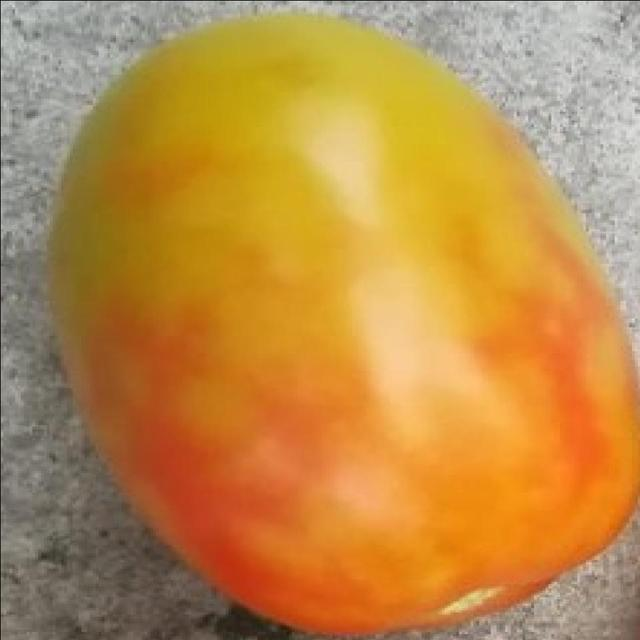Spotted wilt Virus Fruit: (215, 141, 638, 369)
